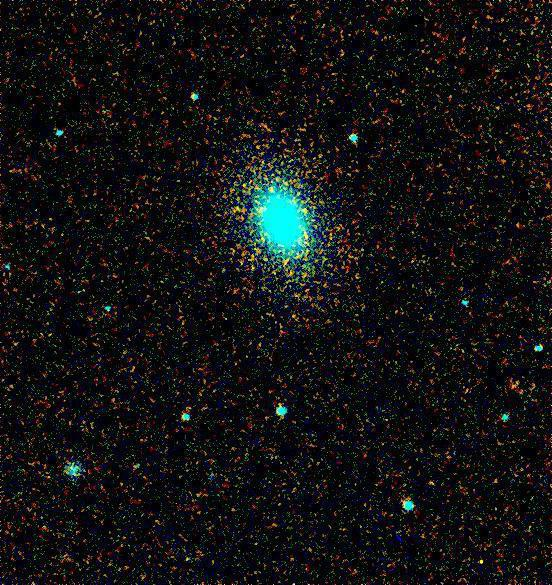star: (256, 172, 286, 202)
